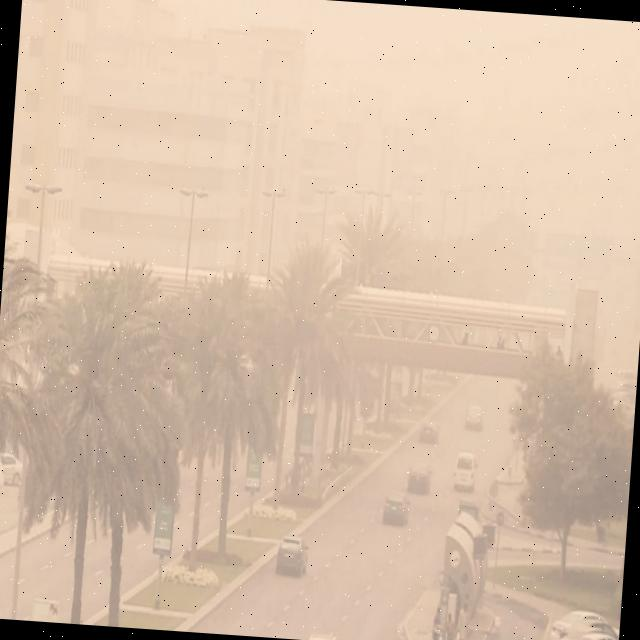car: (552, 598, 614, 624), (275, 532, 309, 576), (560, 616, 616, 640), (452, 450, 478, 492), (380, 492, 410, 526), (0, 449, 23, 488), (408, 463, 432, 495), (463, 402, 484, 428), (419, 416, 438, 442)
